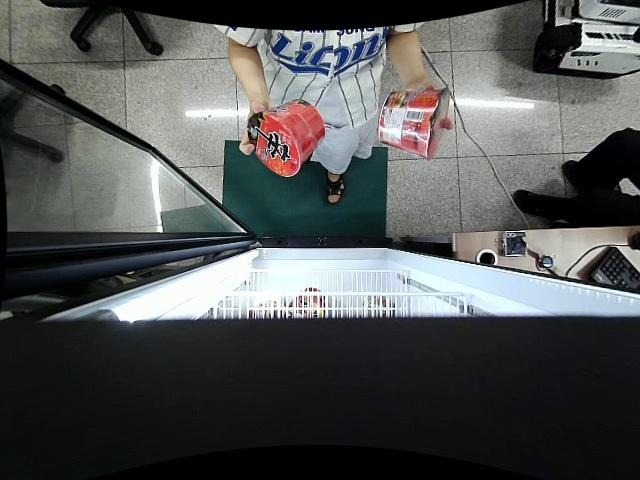00_hand: (409, 77, 455, 135), (239, 100, 268, 158)
01_shinRamen_L: (247, 99, 325, 177), (379, 90, 449, 159)
